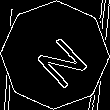N_NW: (23, 23, 87, 87)
